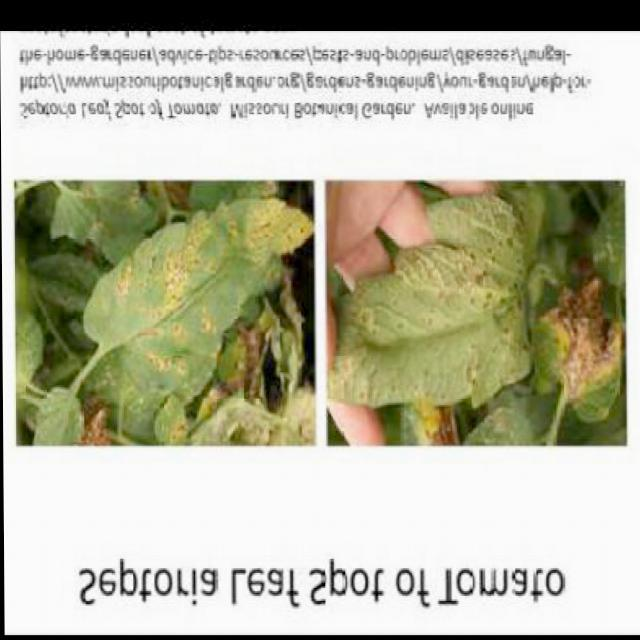Tomato Septoria spot leaf: (76, 196, 312, 416), (325, 196, 538, 416)
